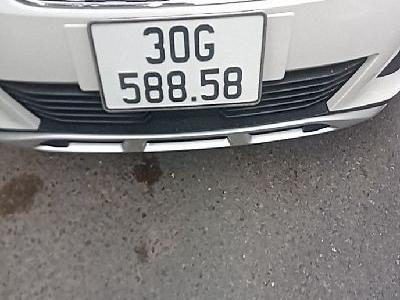number: (92, 10, 265, 111)
